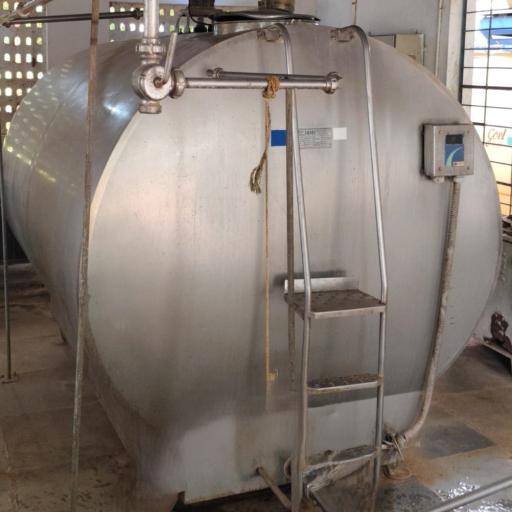silo: (2, 13, 505, 492)
